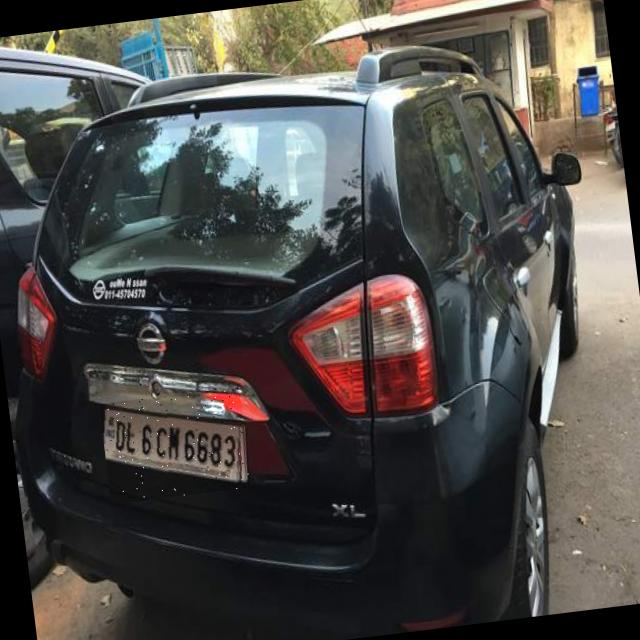Plate: (100, 388, 252, 505)
